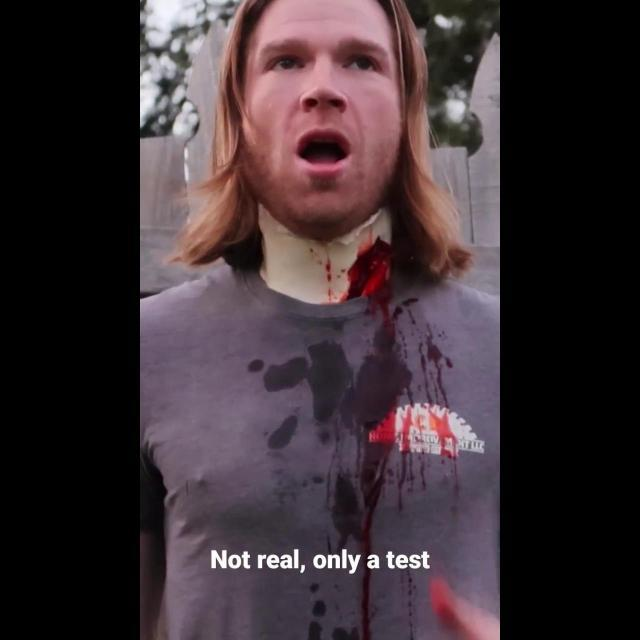blood: (354, 298, 485, 640), (324, 238, 392, 308)
